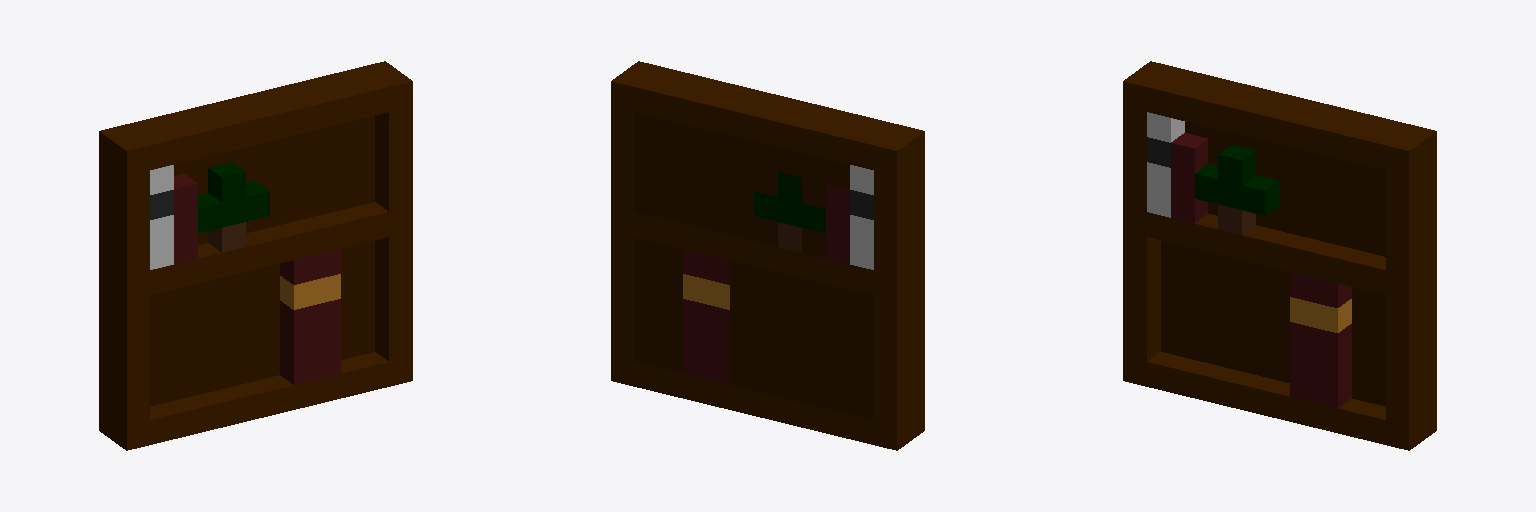
3 renders of one model, left to right at view 1: azimuth 30°, elevation 25°; view 2: azimuth 150°, elevation 25°; view 3: azimuth 330°, elevation 25°, orthographic.
Visible parts, largest first — view 1: Bookshelf1; view 2: Bookshelf1; view 3: Bookshelf1.
Part boxes in pixels (x1,y1,x2,y2): Bookshelf1: (99,61,412,450); Bookshelf1: (611,61,924,450); Bookshelf1: (1123,61,1436,450).
Size of the model in its own units: 12 by 12 by 2.
1 materials, 1 textured.